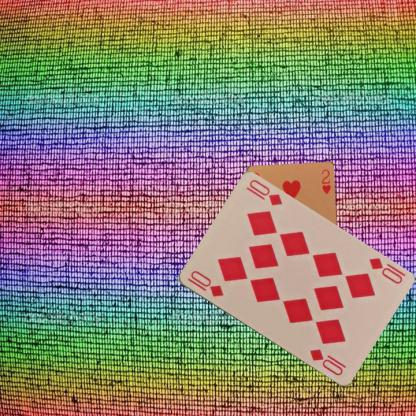10d: (187, 268, 225, 298), (366, 255, 403, 285)
